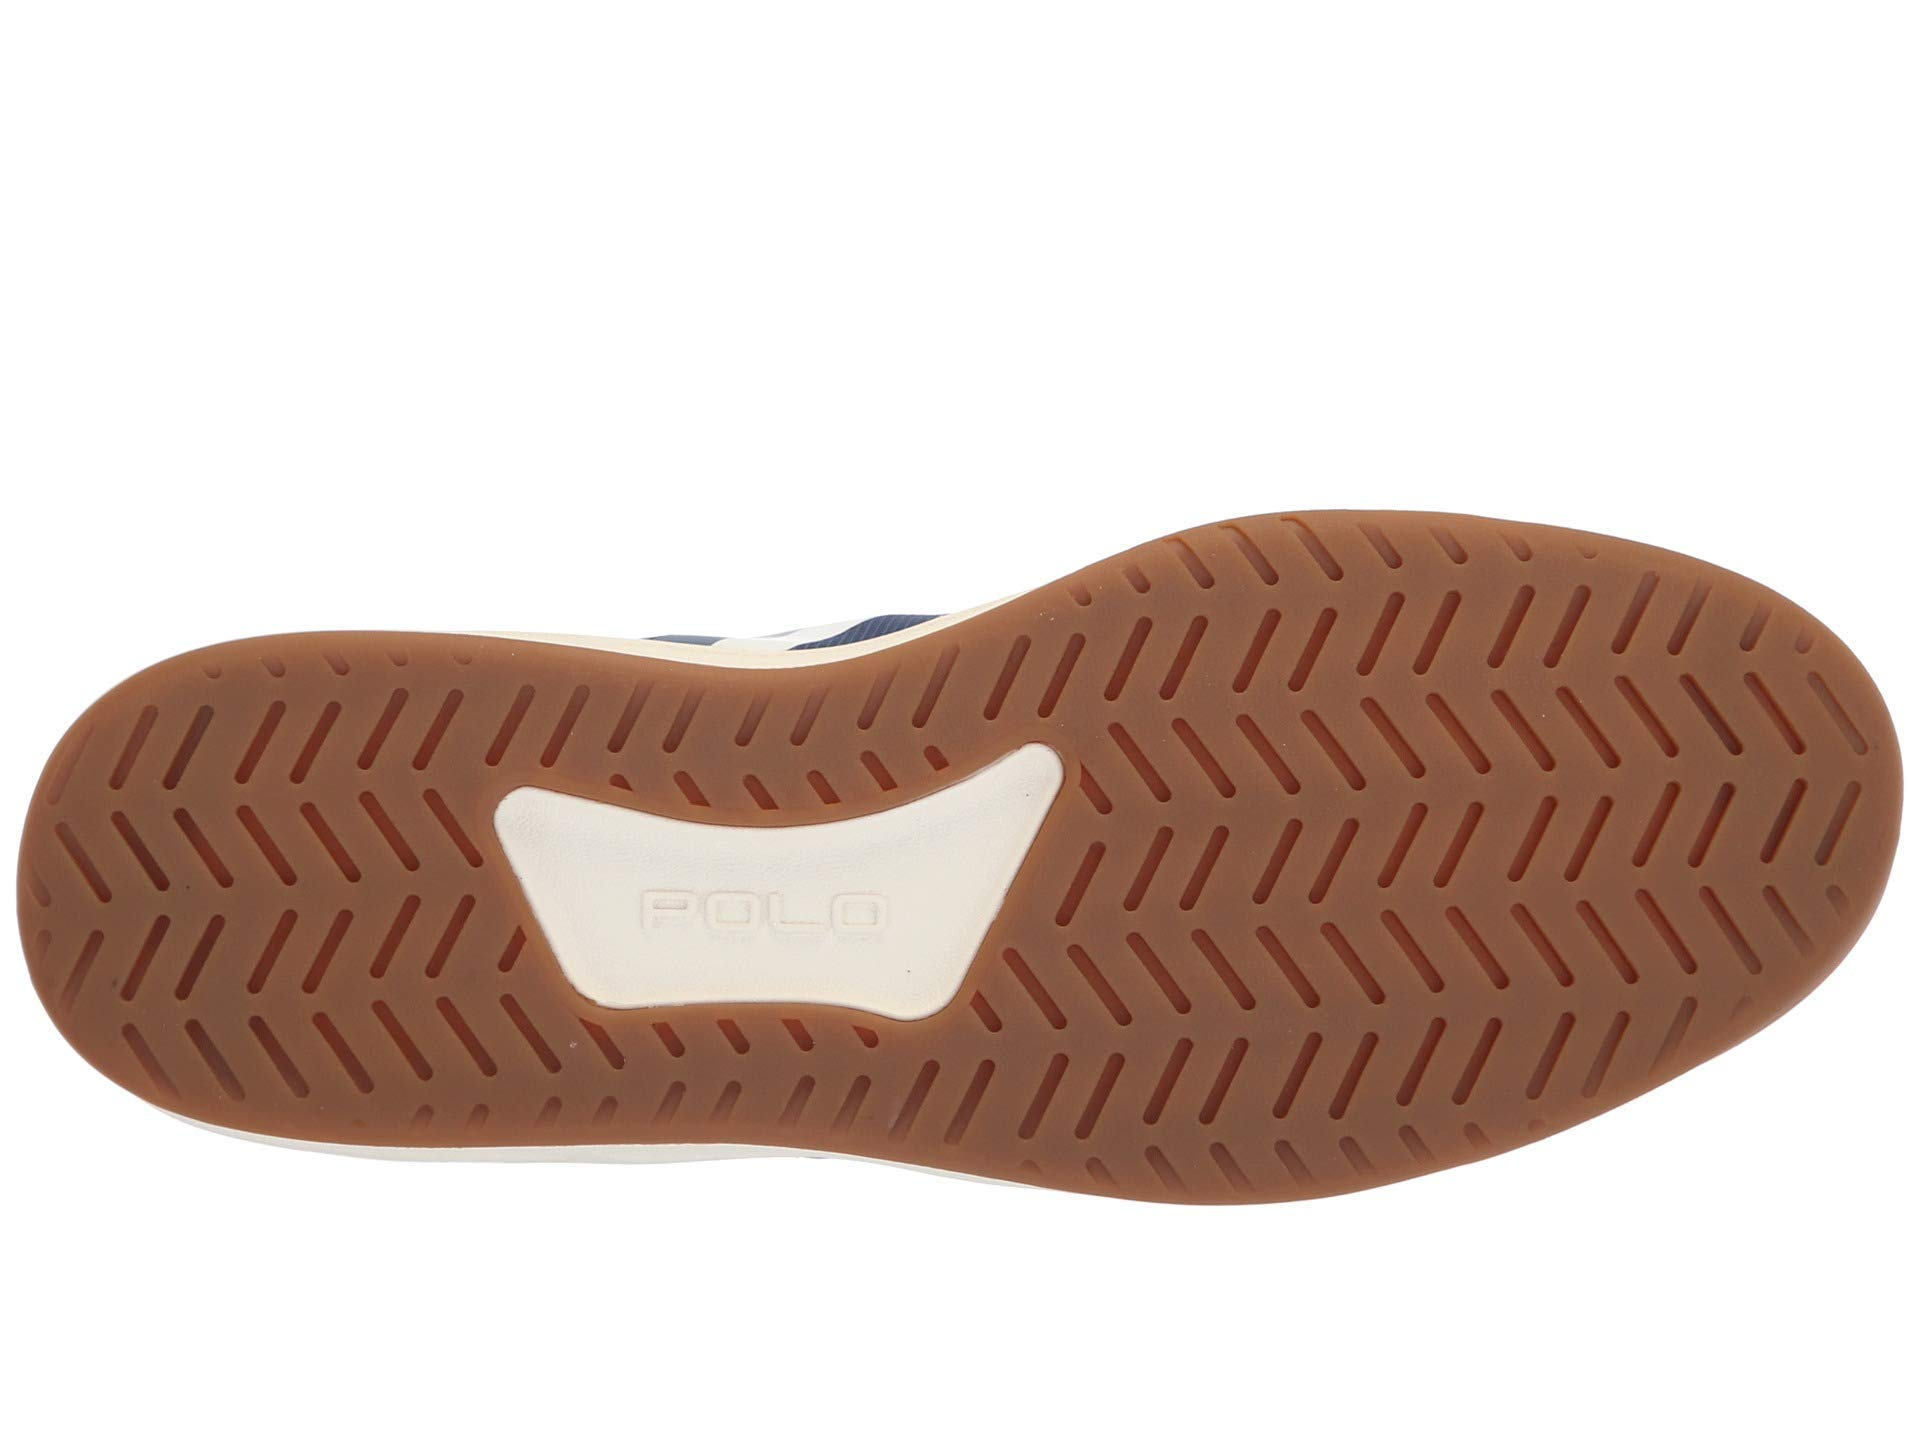quad: (1105, 573, 1736, 1039), (119, 717, 488, 1115), (930, 1033, 1489, 1131), (602, 870, 931, 959)
text: (602, 870, 931, 959)
